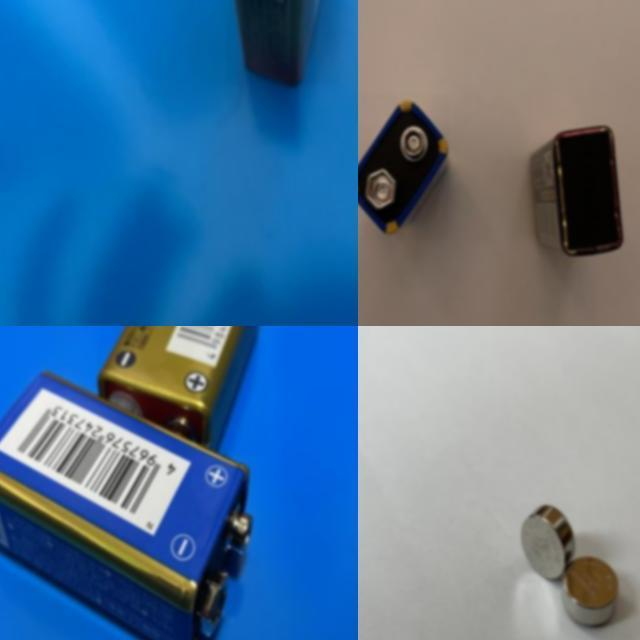9V: (0, 368, 253, 640), (97, 326, 267, 455), (358, 94, 449, 240), (529, 124, 623, 258), (226, 0, 340, 85)
